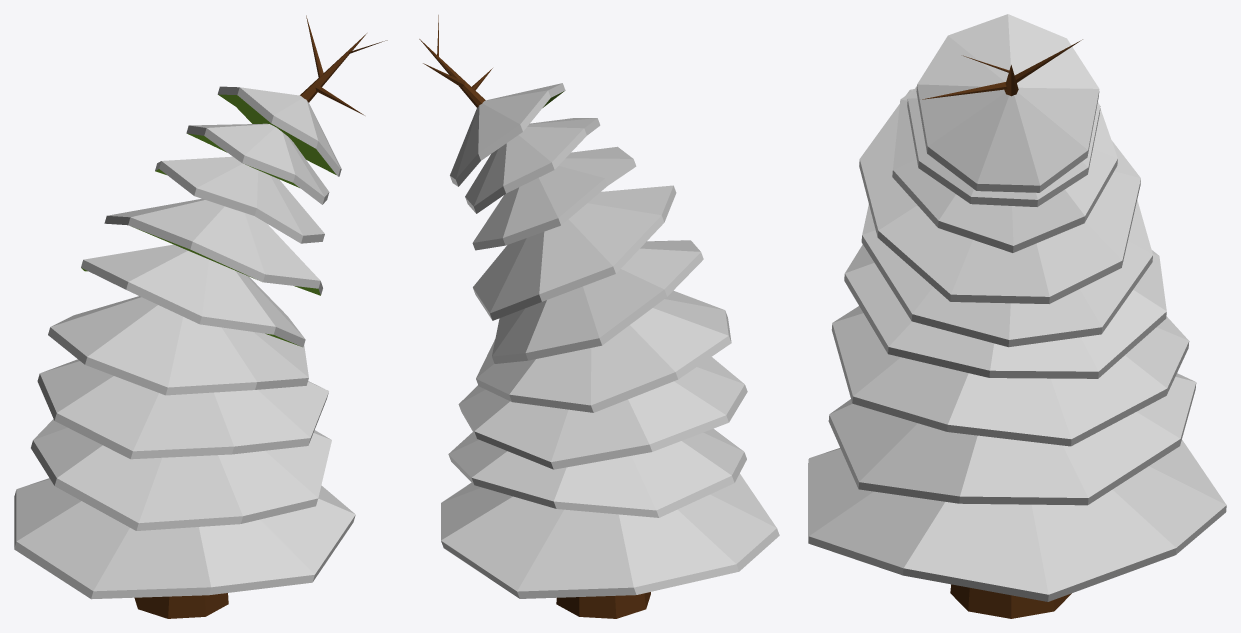
The model's file is Tree_18.fbx.
The picture shows the model from 3 angles, left to right: view 1: azimuth 30°, elevation 25°; view 2: azimuth 150°, elevation 25°; view 3: azimuth 270°, elevation 25°; orthographic projection. The views are drawn at different scales.
Visible parts, largest first — view 1: Tree_18; view 2: Tree_18; view 3: Tree_18.
Boxes of the visible parts, box(x1,y1,x2,y2) form: Tree_18: box(14, 15, 387, 618); Tree_18: box(419, 15, 779, 618); Tree_18: box(808, 14, 1226, 618).
Bounding box in the file's own units: 217 × 324 × 189.
